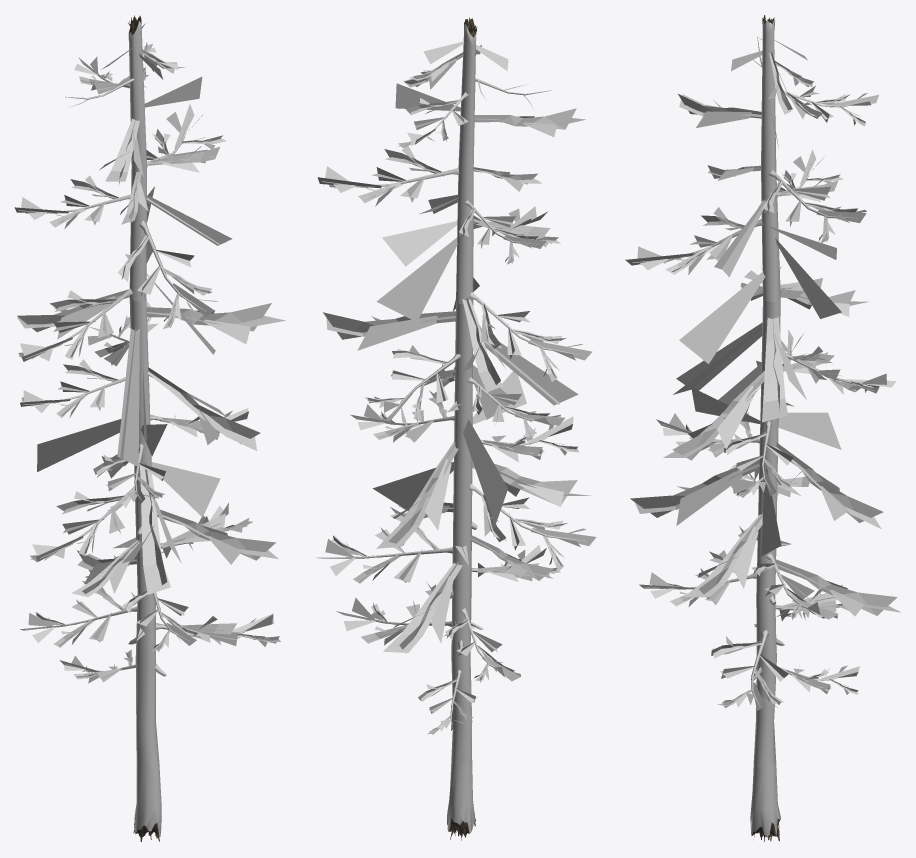
The model's file is SM_PineDead03.fbx.
3 views of the same model, side by side, from view 1: azimuth 30°, elevation 25°; view 2: azimuth 150°, elevation 25°; view 3: azimuth 270°, elevation 25° (orthographic).
Visible parts, largest first — view 1: SM_PineDead03; view 2: SM_PineDead03; view 3: SM_PineDead03.
Boxes of the visible parts, box(x1,y1,x2,y2) form: SM_PineDead03: box(14, 15, 285, 841); SM_PineDead03: box(316, 17, 596, 840); SM_PineDead03: box(625, 15, 900, 841).
Size of what is drawn, in the model's own units: 346 by 1034 by 314.
